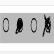correct: (15, 17, 24, 37)
no answer: (30, 15, 38, 35), (2, 16, 10, 34)
not correct: (42, 12, 51, 43)
